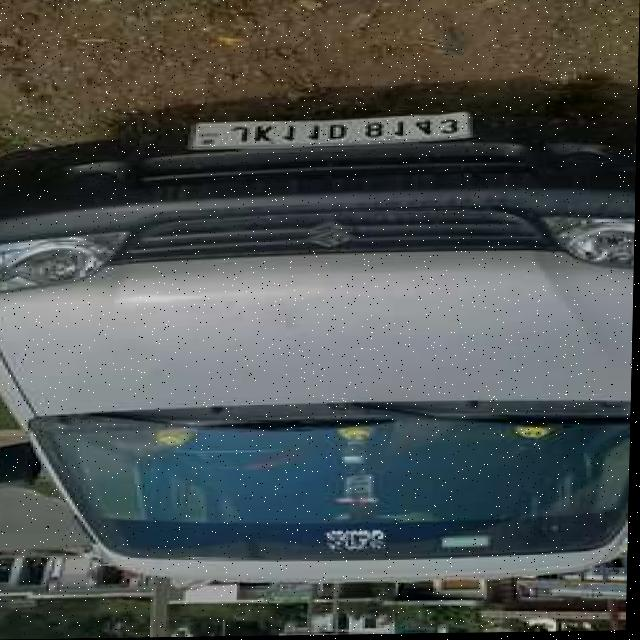plate: (186, 112, 477, 153)
